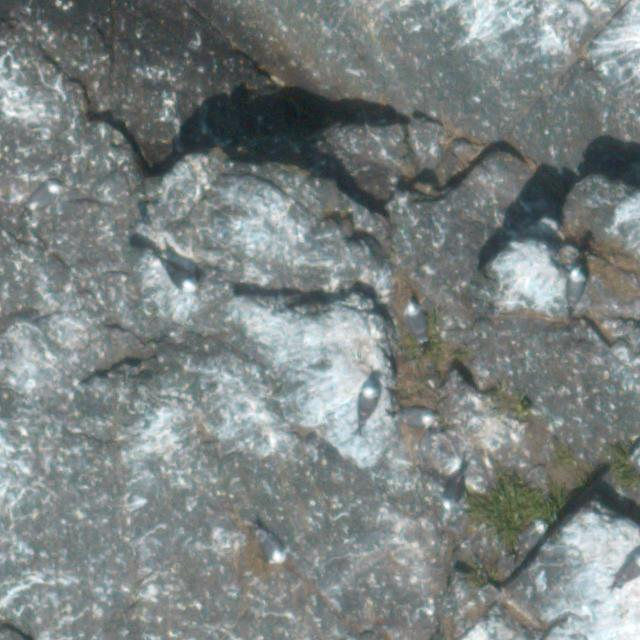umineko: (442, 465, 470, 514), (164, 258, 198, 293), (613, 549, 640, 592), (357, 381, 380, 431), (29, 183, 58, 211), (260, 532, 281, 563), (407, 305, 424, 340), (399, 410, 432, 426), (519, 521, 543, 543), (569, 268, 584, 300)
